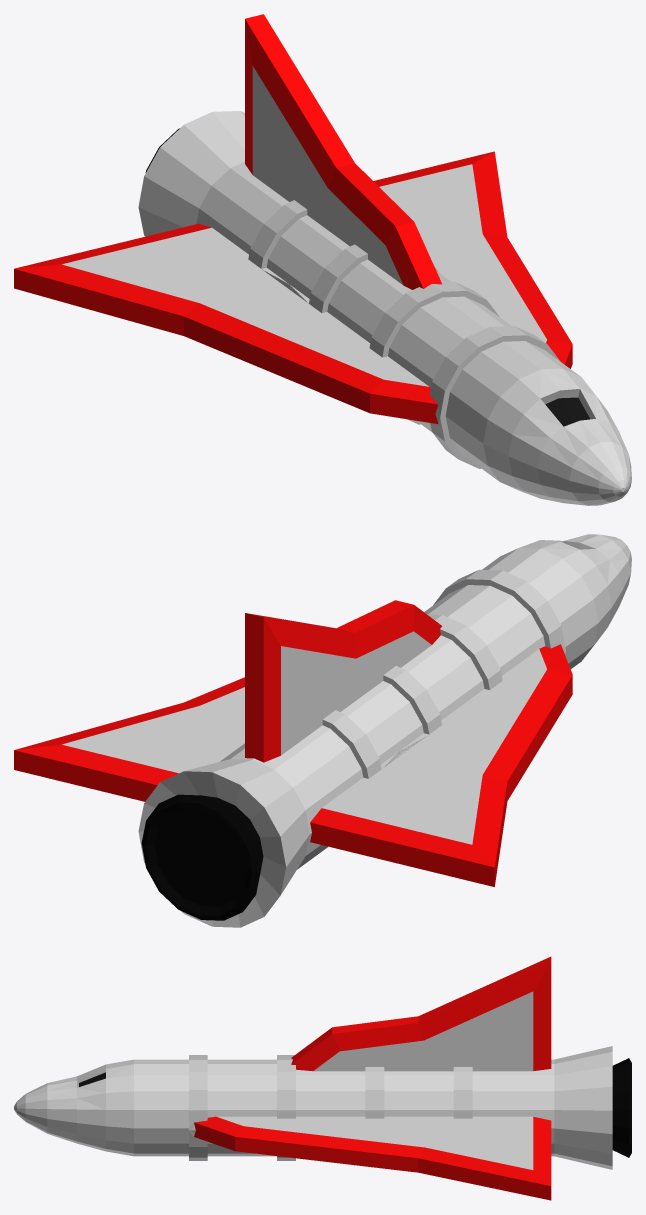
The model's file is shuttle.glb.
3 renders of one model, top to bottom at view 1: azimuth 30°, elevation 25°; view 2: azimuth 150°, elevation 25°; view 3: azimuth 270°, elevation 25°, orthographic. The views are drawn at different scales.
Parts seen in each view (by area): view 1: main, rightWing, leftWing; view 2: main, rightWing, leftWing; view 3: main, leftWing.
Boxes of the visible parts, bbox=[...] form: main: bbox=[138, 14, 631, 505]; rightWing: bbox=[14, 223, 438, 423]; leftWing: bbox=[373, 151, 572, 368]; main: bbox=[138, 534, 631, 927]; rightWing: bbox=[310, 644, 572, 886]; leftWing: bbox=[14, 677, 244, 801]; main: bbox=[14, 956, 631, 1169]; leftWing: bbox=[194, 1116, 551, 1200].
Size of the model in its own units: 4.58 by 2.56 by 7.
